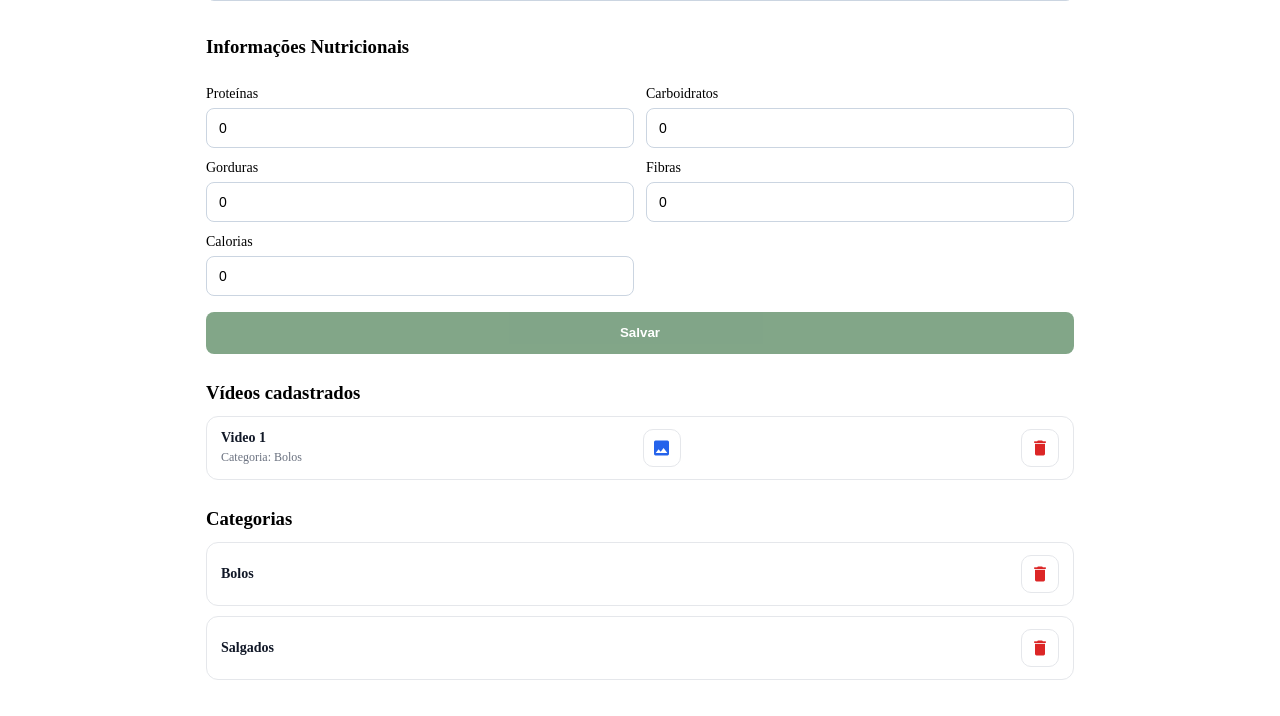
Test case: VideoAdminComponent › A12 — Mobile e acessibilidade › #89 modal de confirmacao permite confirmar e cancelar por clique
(page scrolled)
// Abre modal via clique no DOM (evita ExpressionChanged error)
What coordinates should you click on to do the following:
click the button named "Deletar vídeo"
I would click on:
 (1040, 448)
Its box is [1021, 429, 1059, 467].
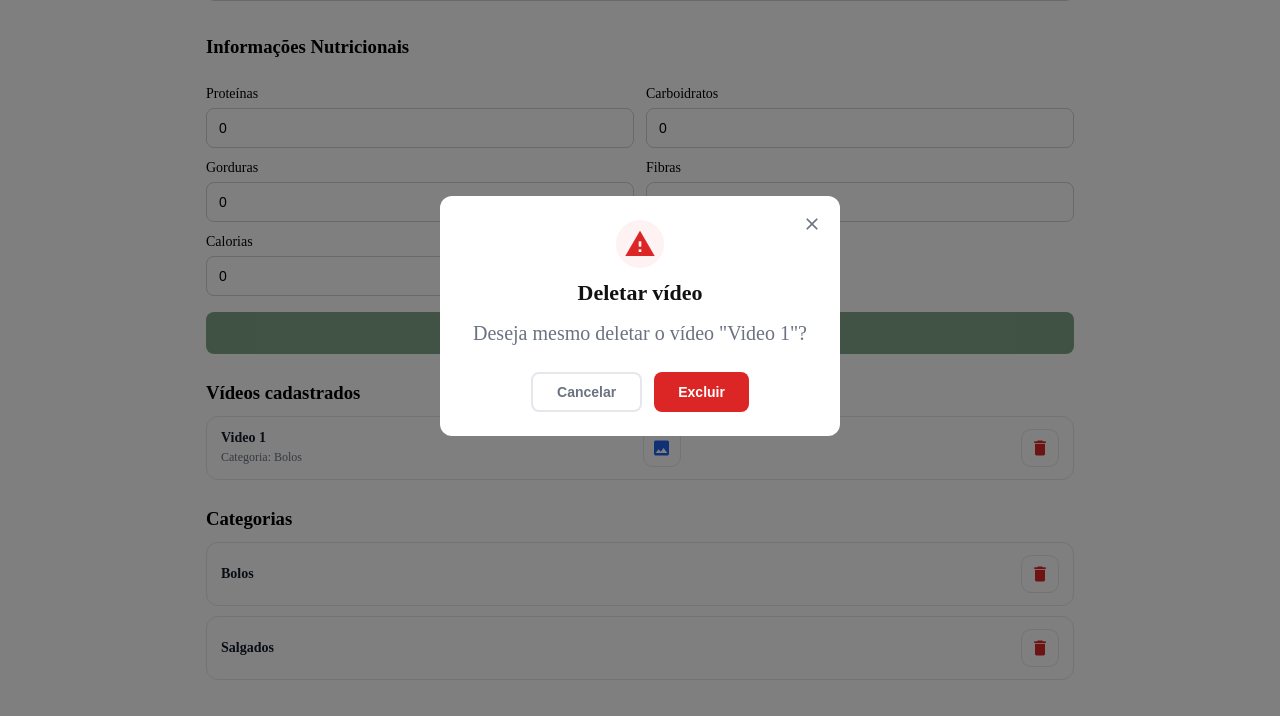
Expected: the button with class "confirm-btn" is shown, [654, 372, 749, 412]
Expected: the button with class "cancel-btn" is shown, [531, 372, 642, 412]
